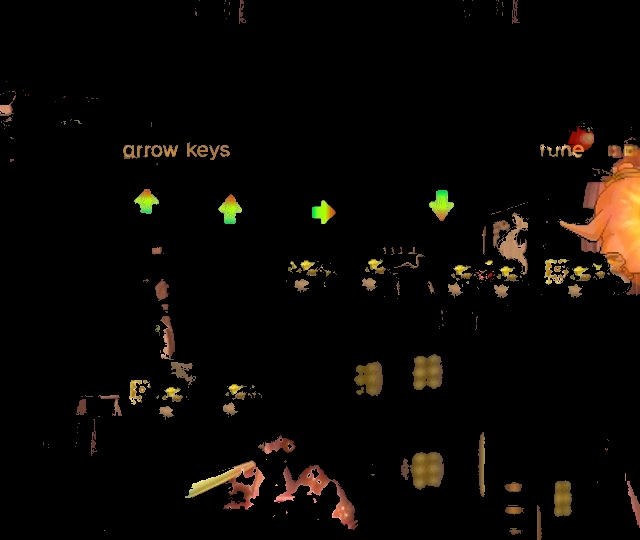rune_box: (93, 153, 497, 258)
